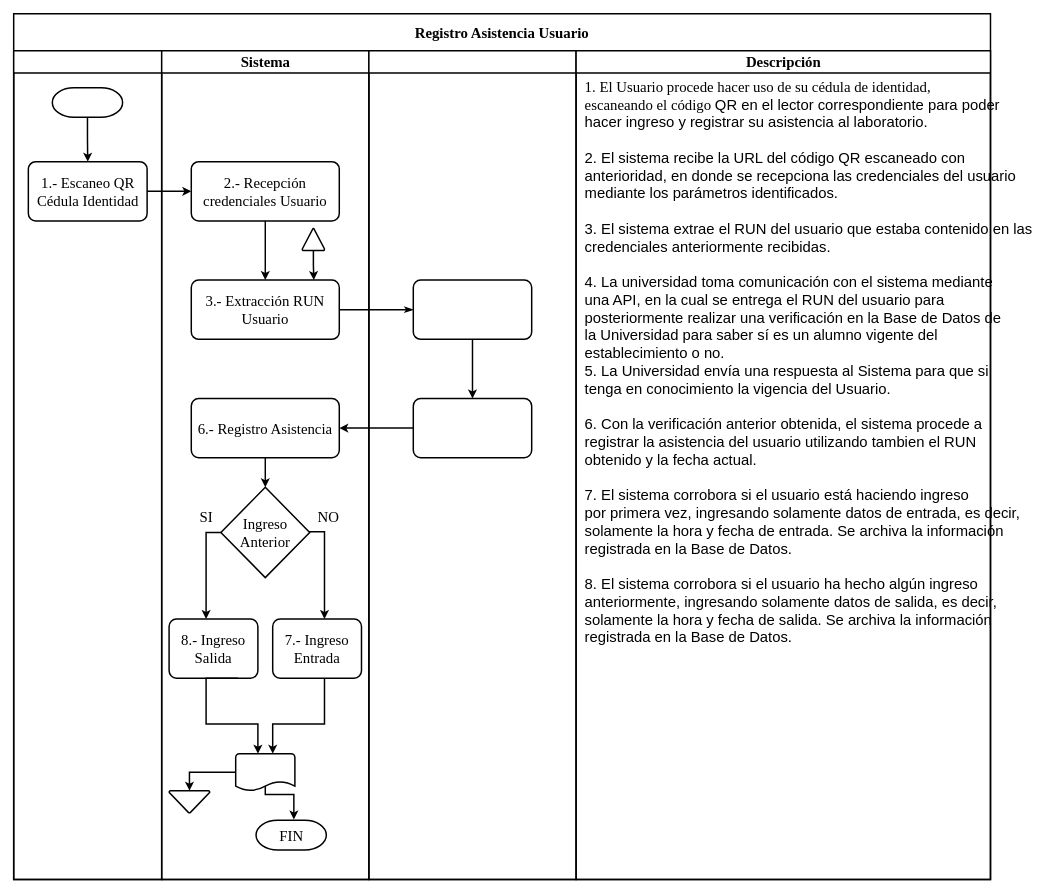
This 1044x892 diagram has some shape labels left out. The shapes that lost their labels are listed below. From the top down, each one's box as (x1, y1, x2, y2) in pixels, then its label:
(51, 87, 123, 118): INICIO
(412, 279, 532, 340): 4.- Verificación Vigencia
(412, 397, 532, 458): 5.- Respuesta Verificación Vigencia
(13, 50, 162, 880): Usuario
(368, 50, 576, 880): Departamento de Informatica
